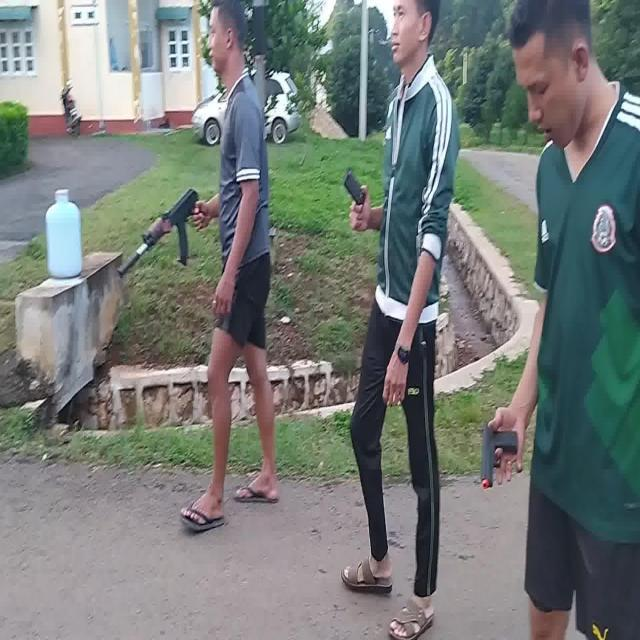gun: (117, 191, 211, 275), (480, 425, 518, 485)
